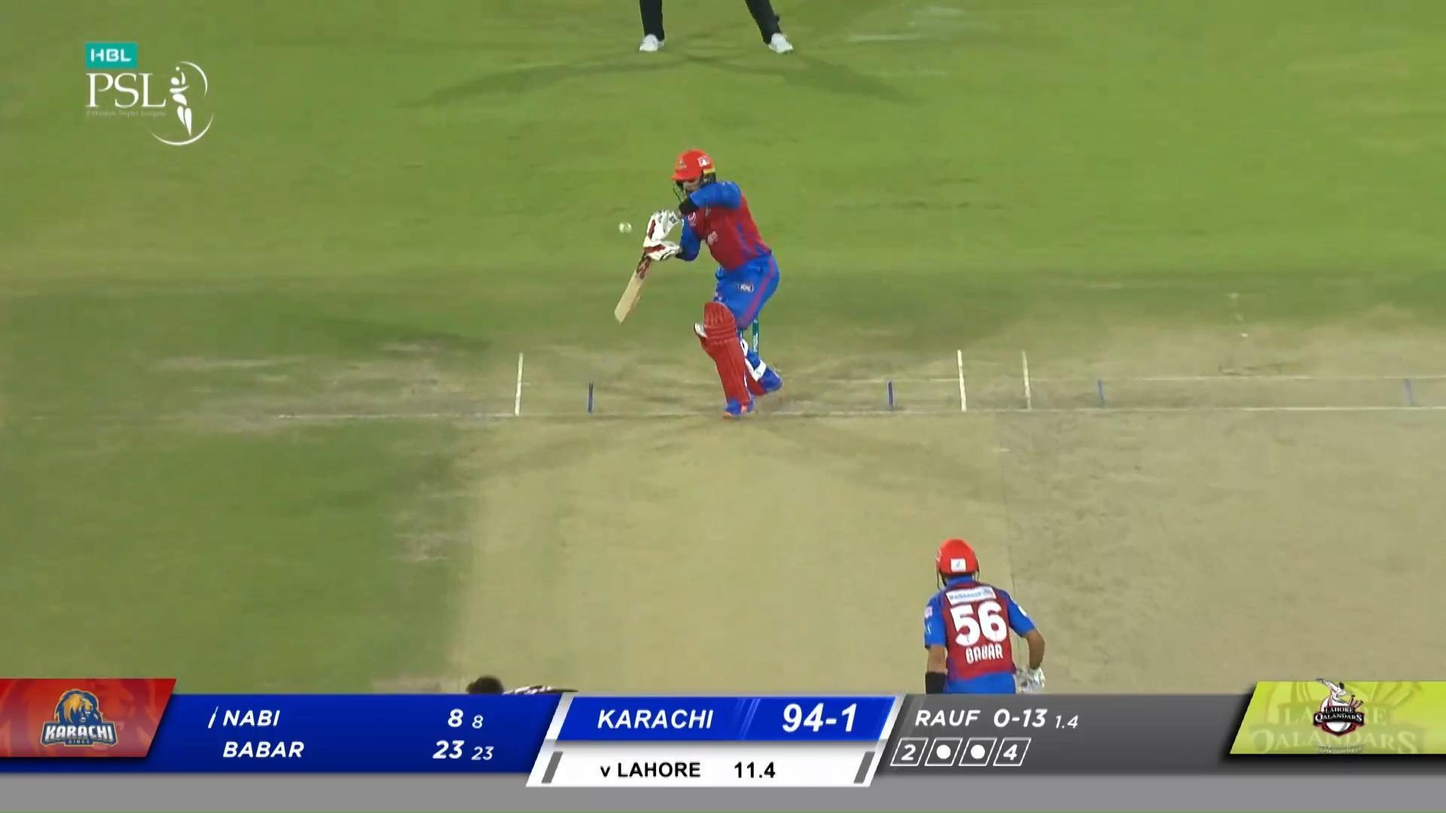BM 1: (613, 148, 784, 420)
BO: (464, 675, 581, 694)
